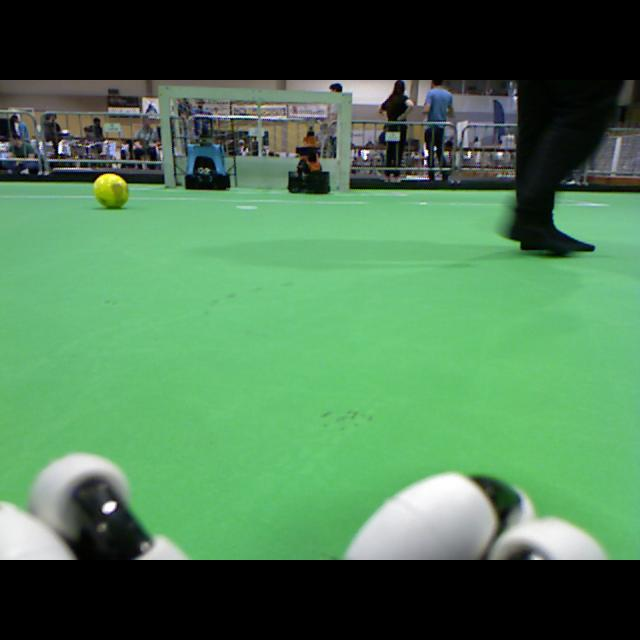ball: (93, 174, 131, 210)
goal: (159, 88, 176, 189), (339, 94, 352, 192)
robot: (289, 118, 331, 194)
